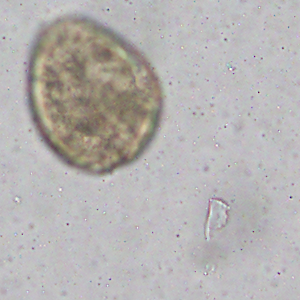Fasciola_hepatica_egg: (26, 14, 162, 174)
